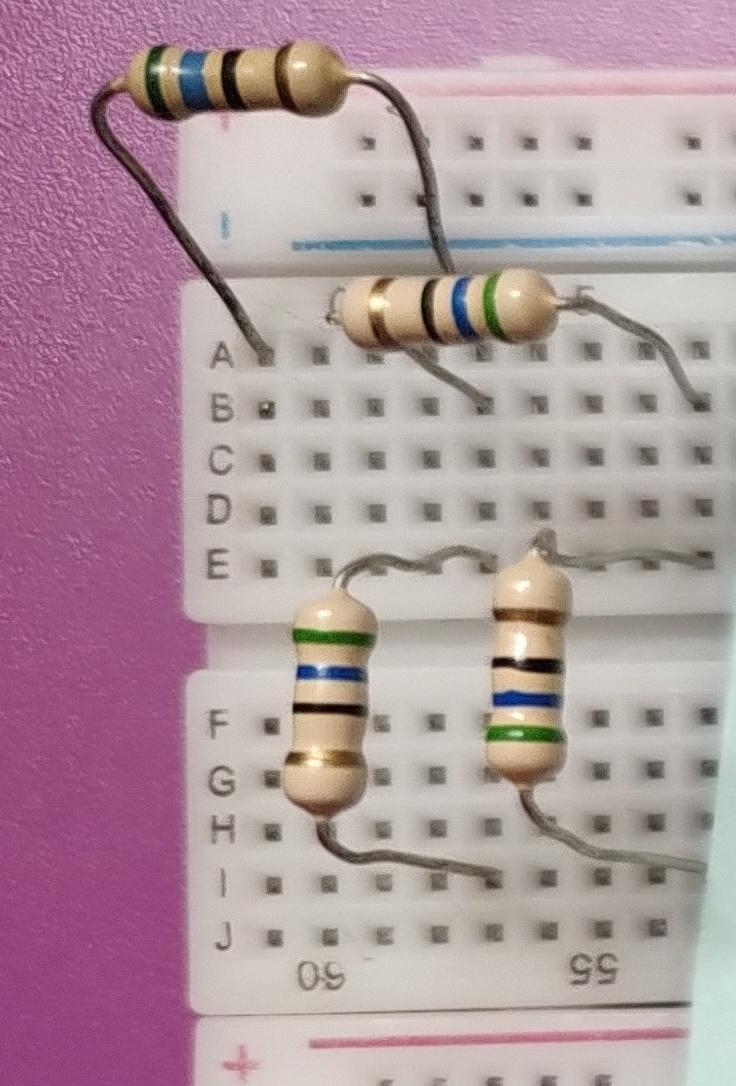resistor: (263, 573, 385, 838), (467, 531, 583, 806), (105, 29, 377, 133), (317, 255, 594, 356)
